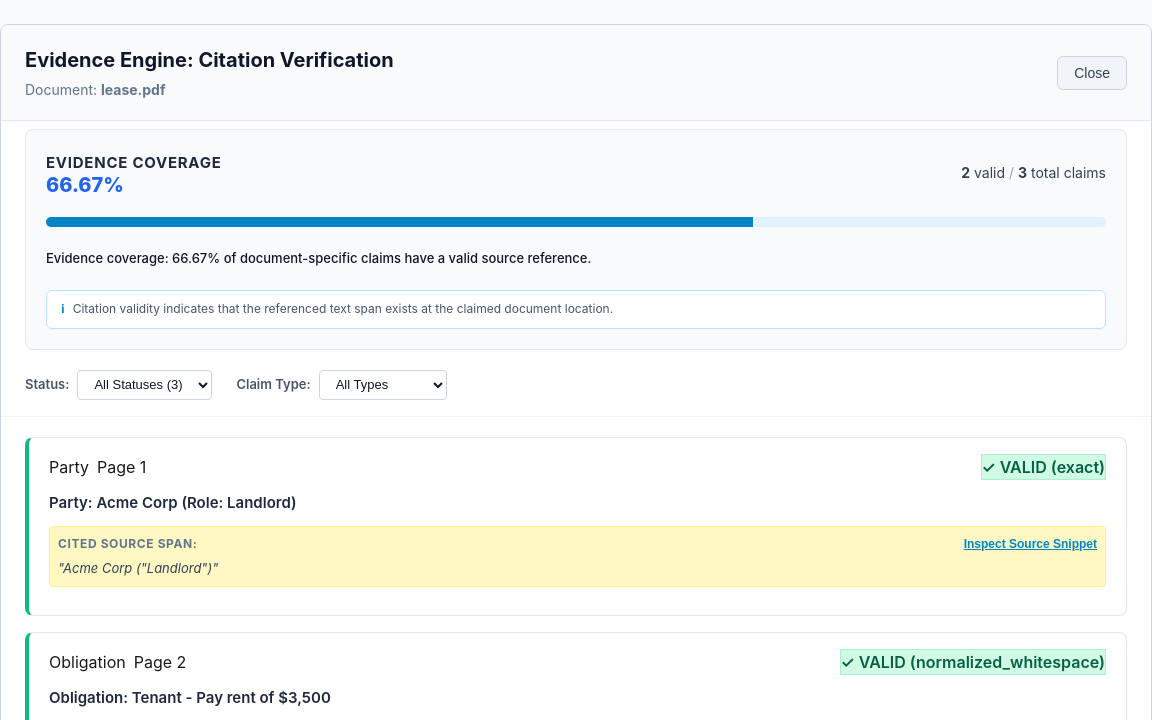
EvidenceViewer Component › filters claims by validation status
Check: the element with test id "claim-card-claim-1" is shown, box [25,437,1127,616]
Select Valid Only
Select "Valid (2)" in the dropdown with test id "filter-status" at (145, 385), box [77,370,212,400]
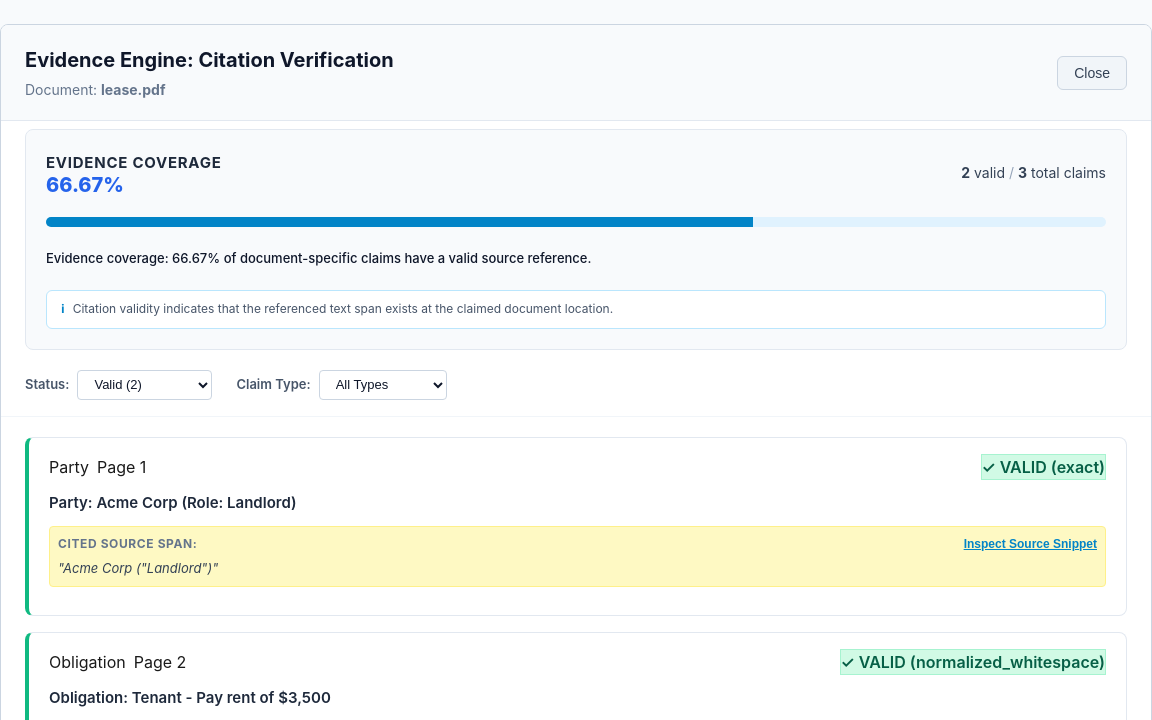
Check: the element with test id "claim-card-claim-1" is shown, box [25,437,1127,616]
Select Invalid Only
Select "Invalid (1)" in the dropdown with test id "filter-status" at (145, 385), box [77,370,212,400]
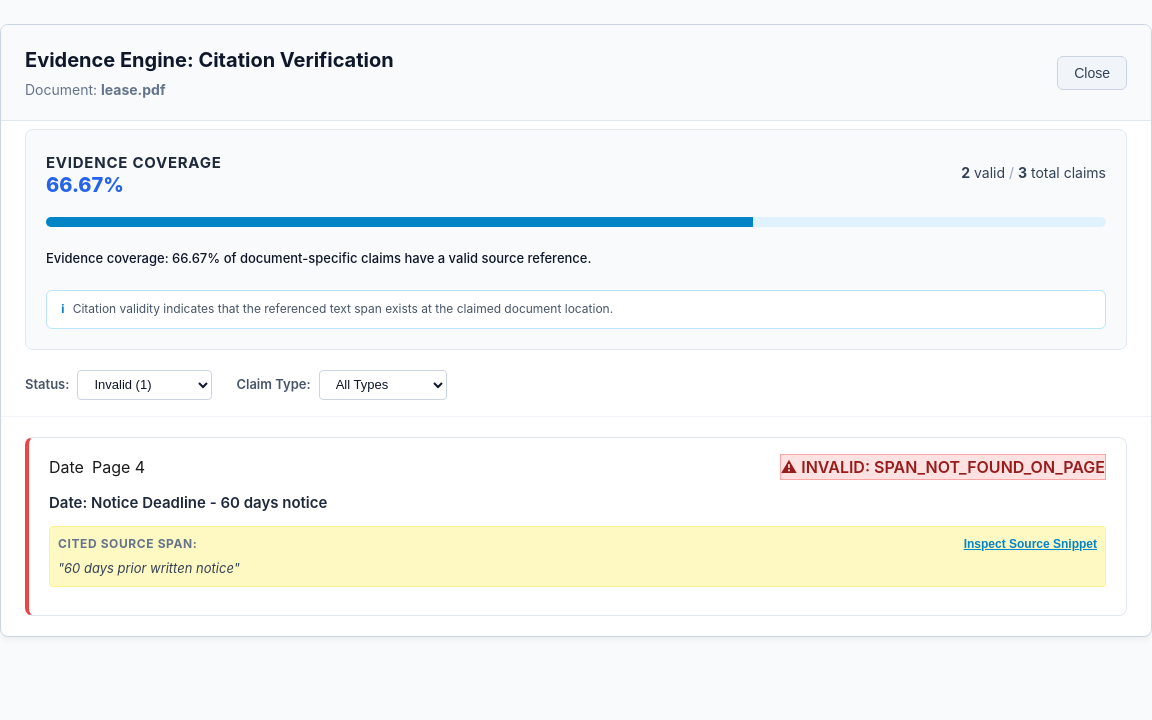
Check: the element with test id "claim-card-claim-1" is gone
Check: the element with test id "claim-card-claim-3" is shown, box [25,437,1127,616]
